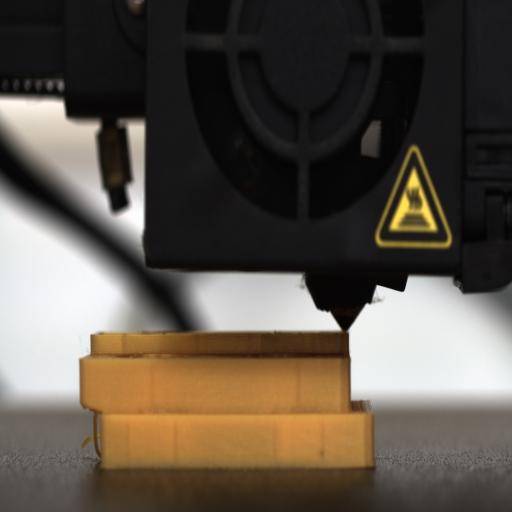layer_shift: (78, 396, 376, 428)
